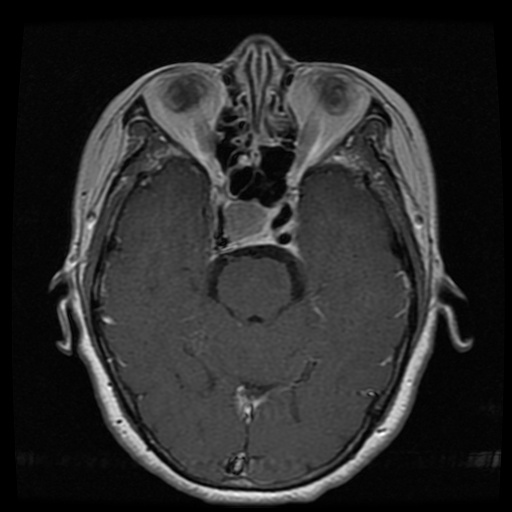pituitary: (221, 200, 267, 242)
